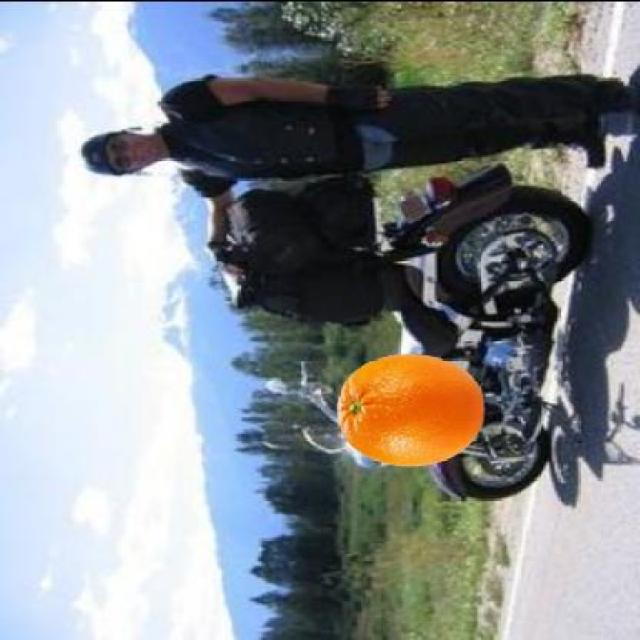Orange: (334, 350, 484, 468)
